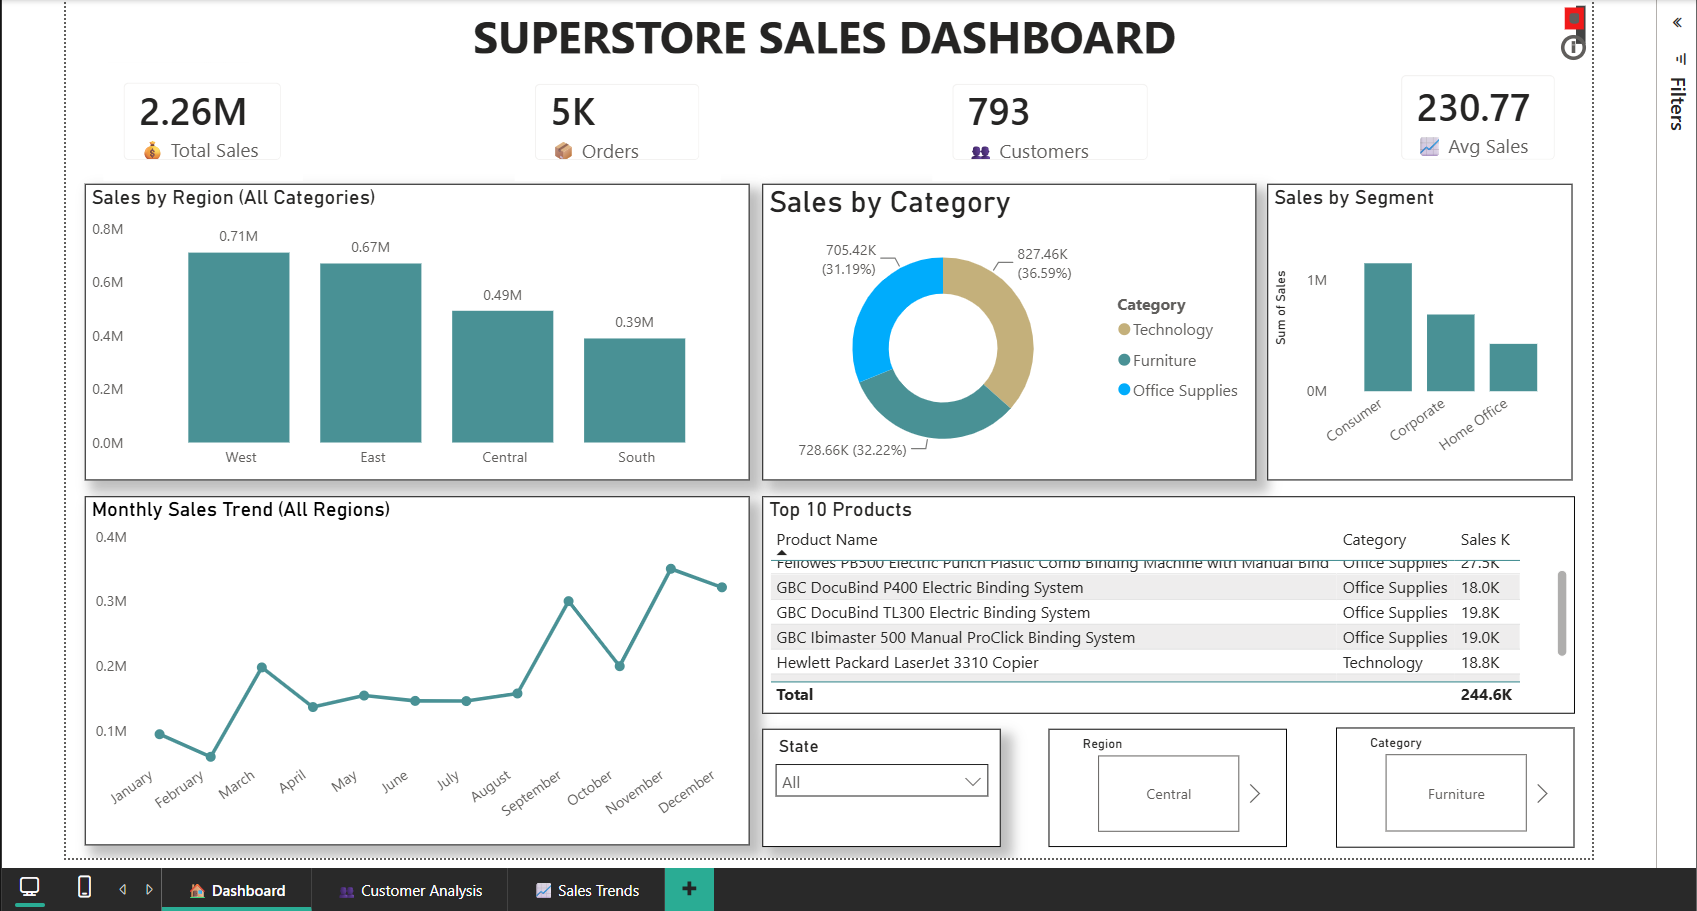

The page's visual inventory and layout, read from the dashboard file:
{"tool":"powerbi","page":{"name":"🏠 Dashboard","canvas":[1280,720],"ordinal":0},"visuals":[{"type":"clusteredColumnChart","fields":{"Category":["train.Region"],"Y":["Sum(train.Sales)"]},"box":[15.3,154.1,558,248.4],"z":0},{"type":"donutChart","title":"Sales by Category","fields":{"Y":["Sum(train.Sales)"],"Category":["train.Category"]},"box":[583.4,154.1,414,248.4],"z":1000},{"type":"lineChart","fields":{"Category":["train.Order Date.Variation.Date Hierarchy.Month","train.Order Date.Variation.Date Hierarchy.Day"],"Y":["Sum(train.Sales)"]},"box":[15.3,416.6,558,293],"z":2000},{"type":"clusteredColumnChart","title":"Sales by Segment","fields":{"Category":["train.Segment"],"Y":["Sum(train.Sales)"]},"box":[1007.6,154.1,256.1,248.4],"z":3000},{"type":"tableEx","title":"Top 10 Products","fields":{"Values":["train.Product Name","train.Category","train.Sales K"]},"box":[583.4,416.6,681.5,182.2],"z":4000},{"type":"slicer","fields":{"Values":["train.Region"]},"box":[824.2,611.5,200,99.4],"z":5000},{"type":"slicer","fields":{"Values":["train.Category"]},"box":[1065,610.2,200,100.6],"z":6000},{"type":"slicer","fields":{"Values":["train.State"]},"box":[583.4,611.5,200,99.4],"z":7000},{"type":"textbox","box":[0,0,1279.7,49.6],"z":8000},{"type":"cardVisual","fields":{"Data":["train.Total Sales"]},"box":[15.7,36,158.3,98.7],"z":9000},{"type":"cardVisual","fields":{"Data":["train.Total Orders"]},"box":[376.3,53.2,172.5,98.8],"z":10000},{"type":"cardVisual","fields":{"Data":["train.Total Sales"]},"box":[31.8,52.6,166.9,99.4],"z":11000},{"type":"cardVisual","fields":{"Data":["train.Total Customers"]},"box":[726.4,53.2,198.9,98.8],"z":12000},{"type":"cardVisual","fields":{"Data":["train.Average Sales"]},"box":[1102.9,46.1,163.5,105.9],"z":13000},{"type":"actionButton","title":"open button","box":[1249.4,25,30.4,29.4],"z":14000},{"type":"actionButton","title":"Close Button","box":[1257,6.5,16.3,18.5],"z":15000}]}

Visuals, with their boxes on the page's 1280x720 design canvas (x1, y1, x2, y2). These are canvas units, not pixel positions in the 1697x911 screenshot, which may show the page scaled, cropped or inside an application window:
clusteredColumnChart - train.Region x Sum(train.Sales): box(15, 154, 573, 402)
"Sales by Category" donutChart: box(583, 154, 997, 402)
lineChart - train.Order Date.Variation.Date Hierarchy.Month x train.Order Date.Variation.Date Hierarchy.Day: box(15, 417, 573, 710)
"Sales by Segment" clusteredColumnChart: box(1008, 154, 1264, 402)
"Top 10 Products" tableEx: box(583, 417, 1265, 599)
slicer - train.Region: box(824, 612, 1024, 711)
slicer - train.Category: box(1065, 610, 1265, 711)
slicer - train.State: box(583, 612, 783, 711)
textbox: box(0, 0, 1280, 50)
cardVisual - train.Total Sales: box(16, 36, 174, 135)
cardVisual - train.Total Orders: box(376, 53, 549, 152)
cardVisual - train.Total Sales: box(32, 53, 199, 152)
cardVisual - train.Total Customers: box(726, 53, 925, 152)
cardVisual - train.Average Sales: box(1103, 46, 1266, 152)
"open button" actionButton: box(1249, 25, 1280, 54)
"Close Button" actionButton: box(1257, 6, 1273, 25)
